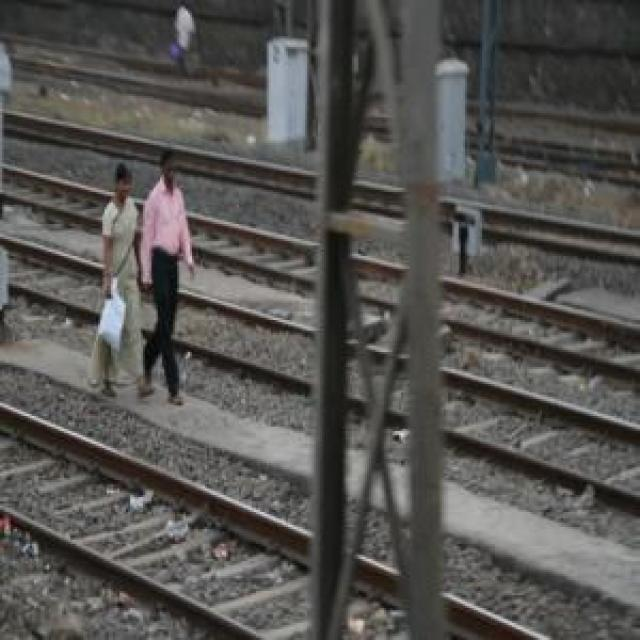rail: (5, 226, 640, 535), (5, 163, 640, 390), (1, 397, 582, 640), (4, 107, 640, 278)
